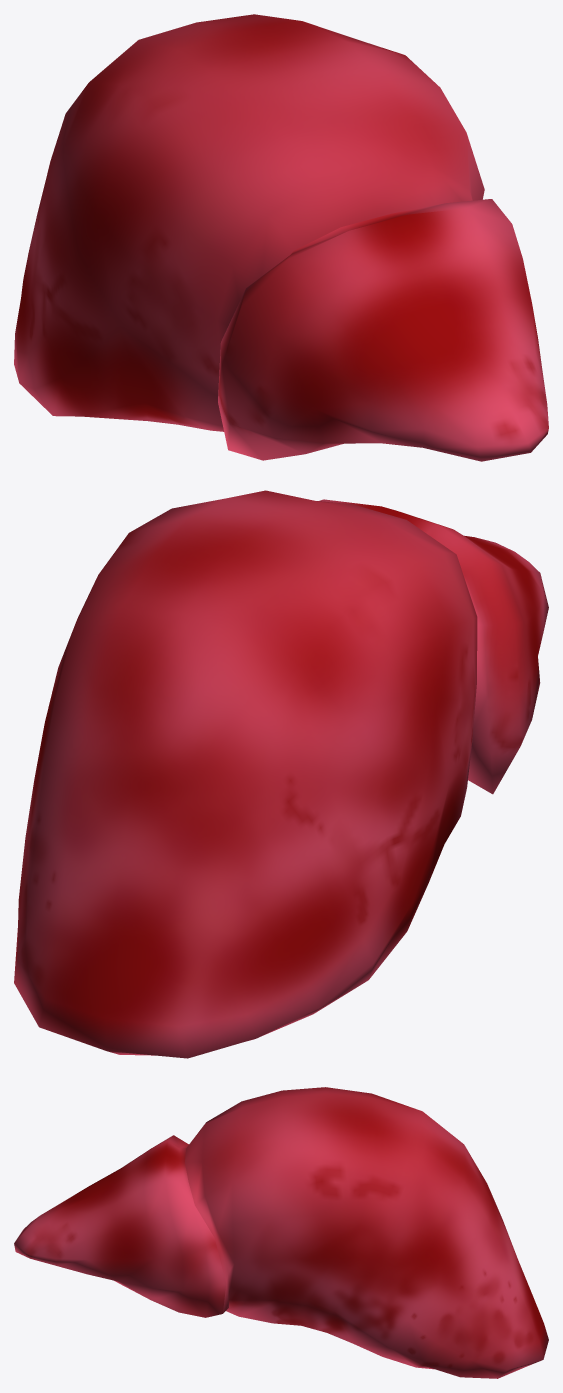
File: Liver reg mesh.fbx
3 renders of one model, top to bottom at view 1: azimuth 30°, elevation 25°; view 2: azimuth 150°, elevation 25°; view 3: azimuth 270°, elevation 25°, orthographic. The views are drawn at different scales.
Parts seen in each view (by area): view 1: Liver; view 2: Liver; view 3: Liver.
Part boxes in pixels (<box>): Liver: <box>14,14,548,461</box>; Liver: <box>14,490,548,1058</box>; Liver: <box>14,1087,548,1378</box>.
Size of the model in its own units: 90.32 by 97.29 by 193.
Materials: 1 (1 with a texture image).
